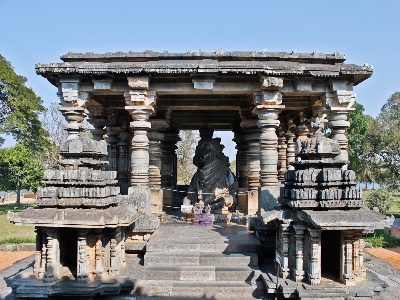mandapa: (25, 39, 369, 204)
